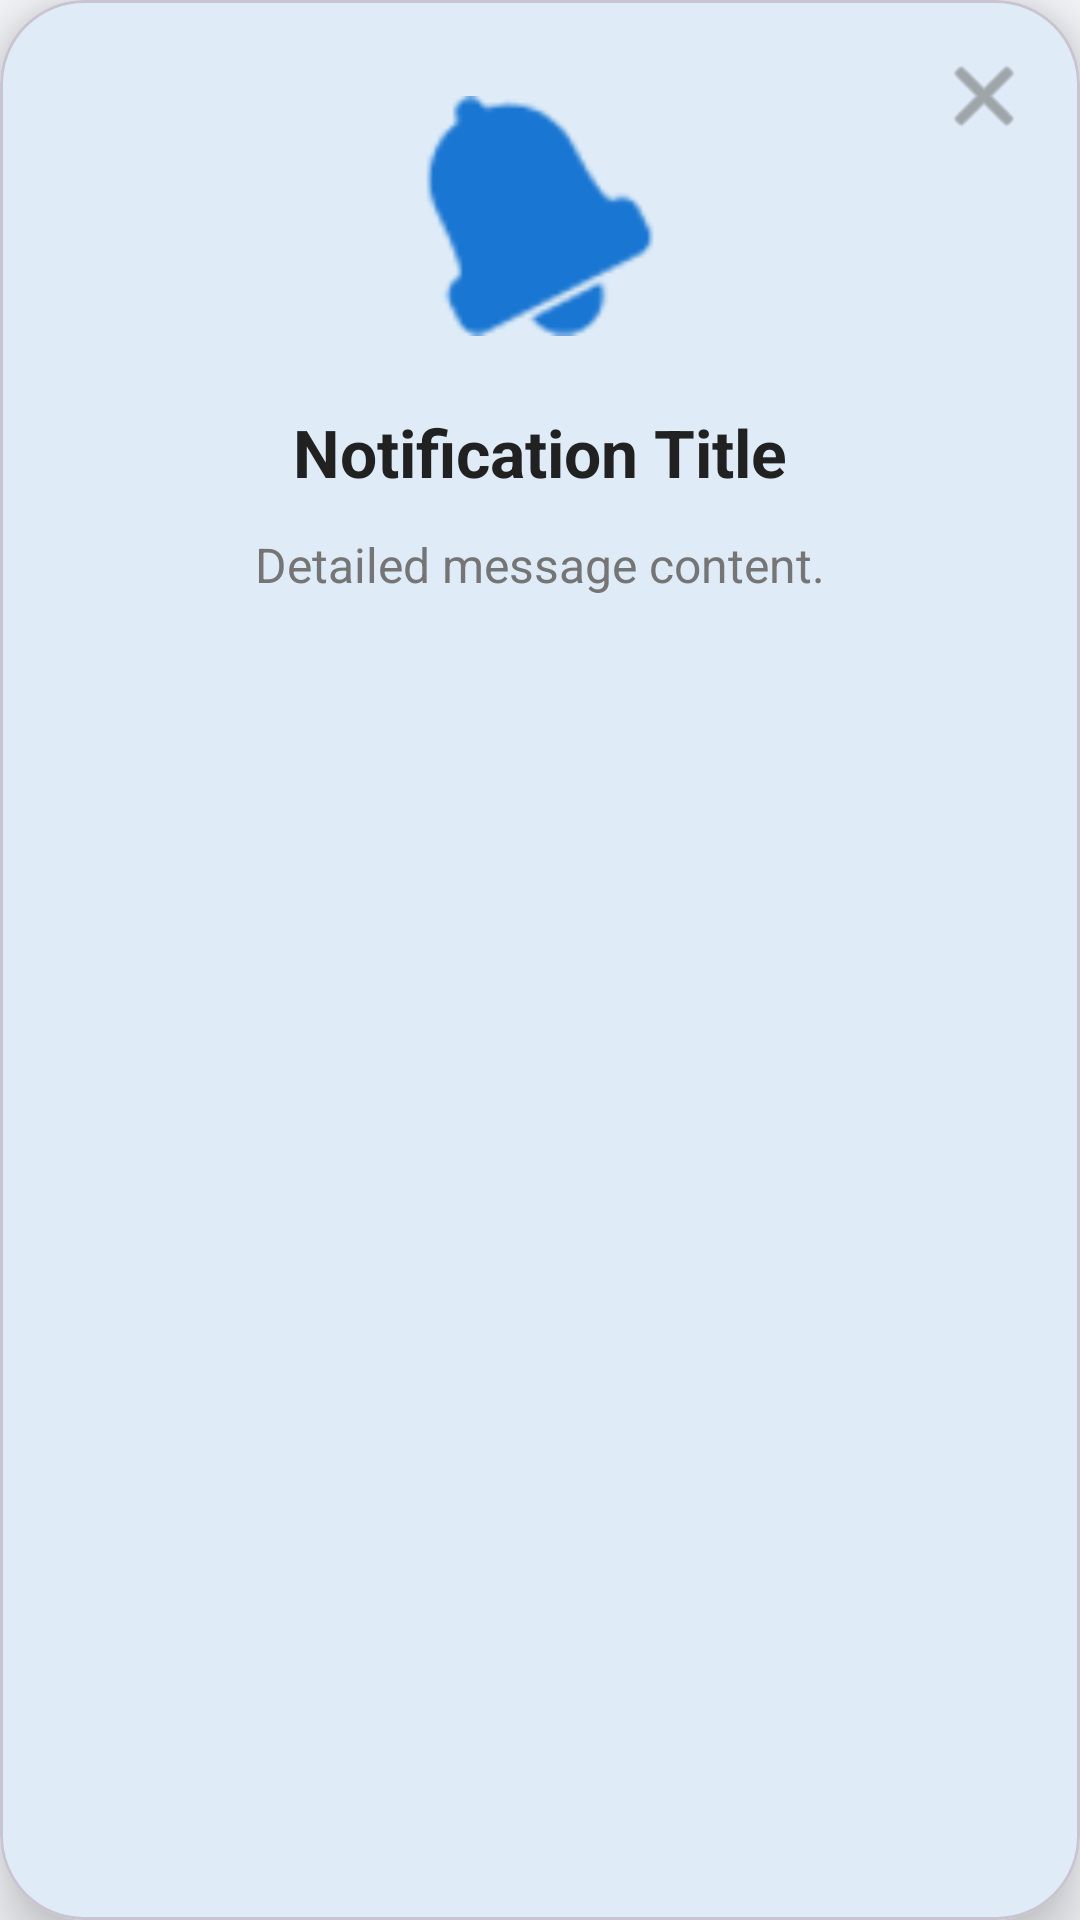

Where icons sit on this 1080 x 1920 app screen, as bbox(x1, y1, x2, y2):
Close: bbox(954, 66, 1014, 126)
popup reminder: bbox(427, 96, 653, 336)
